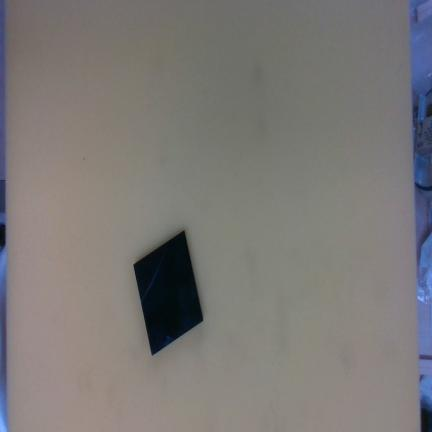tile: (127, 228, 209, 358)
